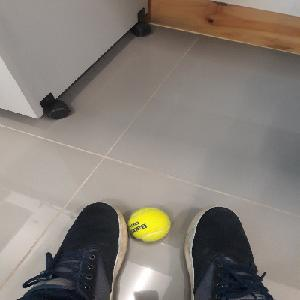Ball: (128, 206, 171, 242)
